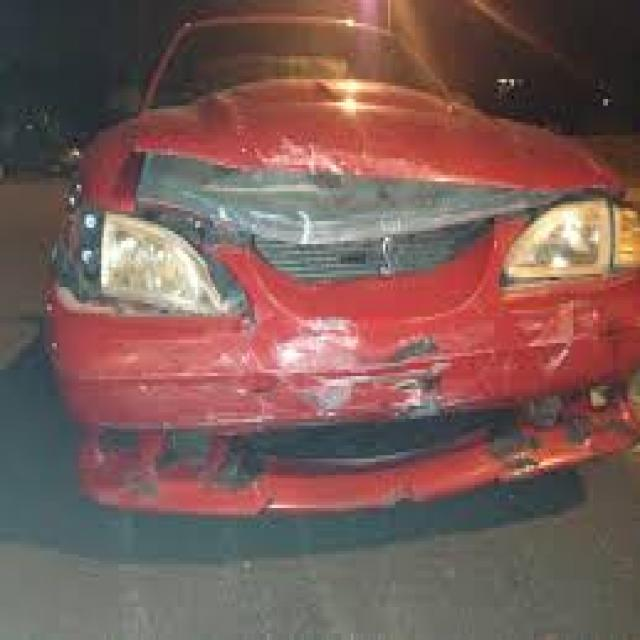moderate: (59, 122, 640, 495)
